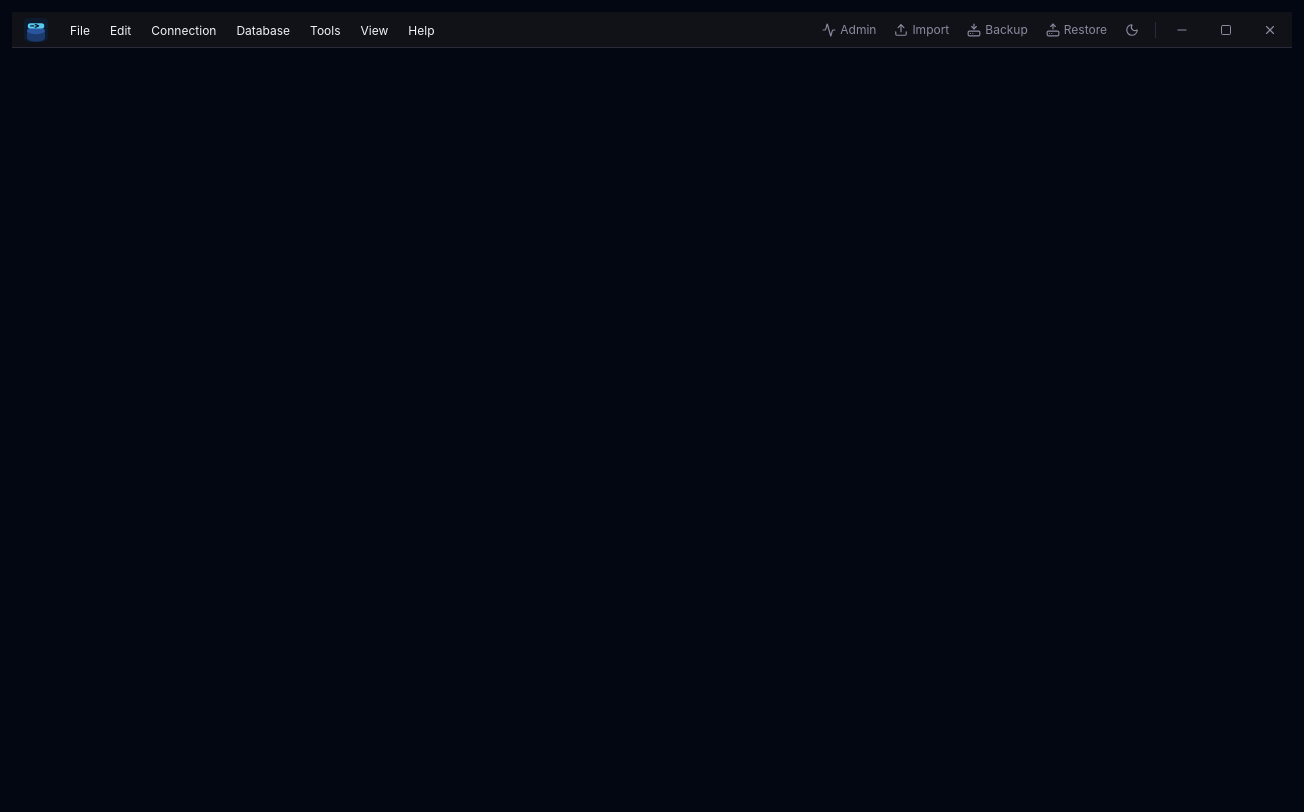
Test: TitleBar › closes system menu on click outside
Right-click the element that starts with "File" at (652, 30), box [12,12,1292,48]
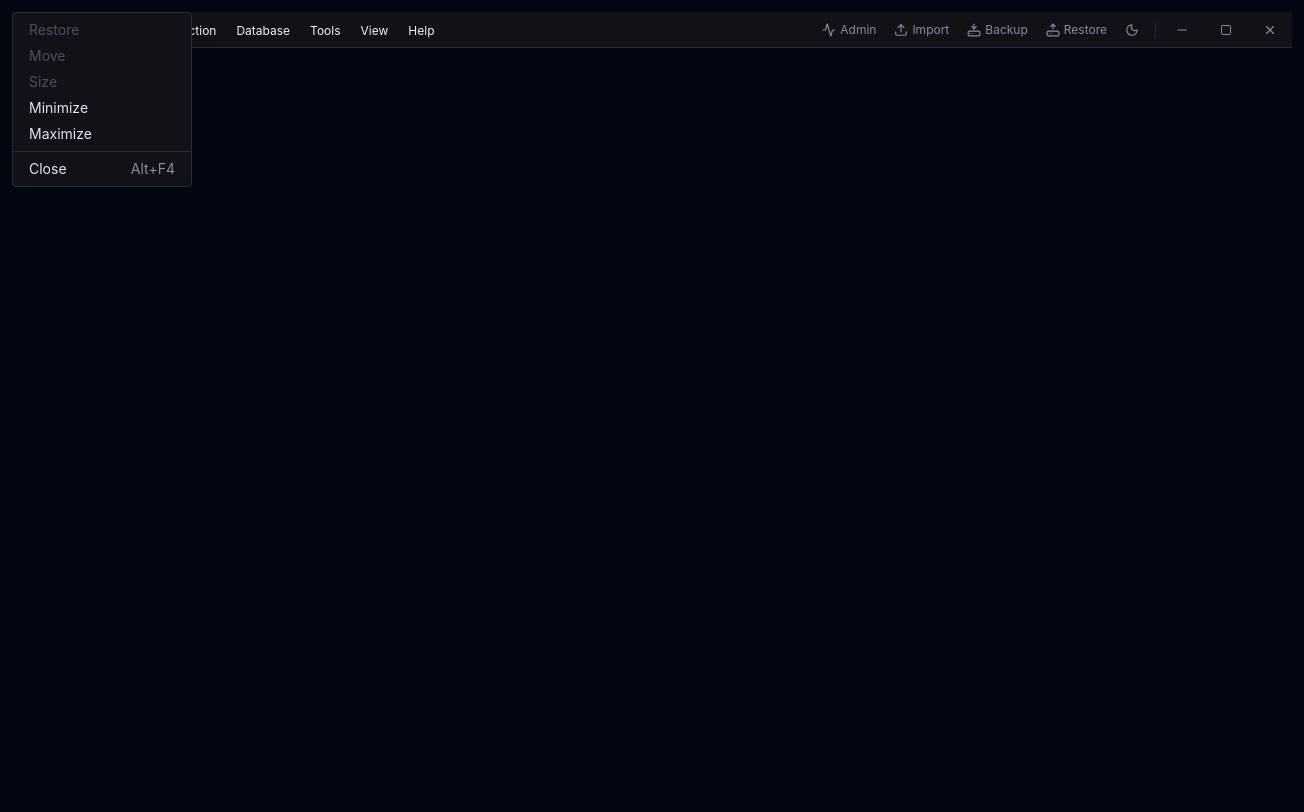
Now the text "Close" is shown, box [29,159,67,179]
Press the mouse on the element that starts with "File" at (652, 412), box [12,12,1292,811]
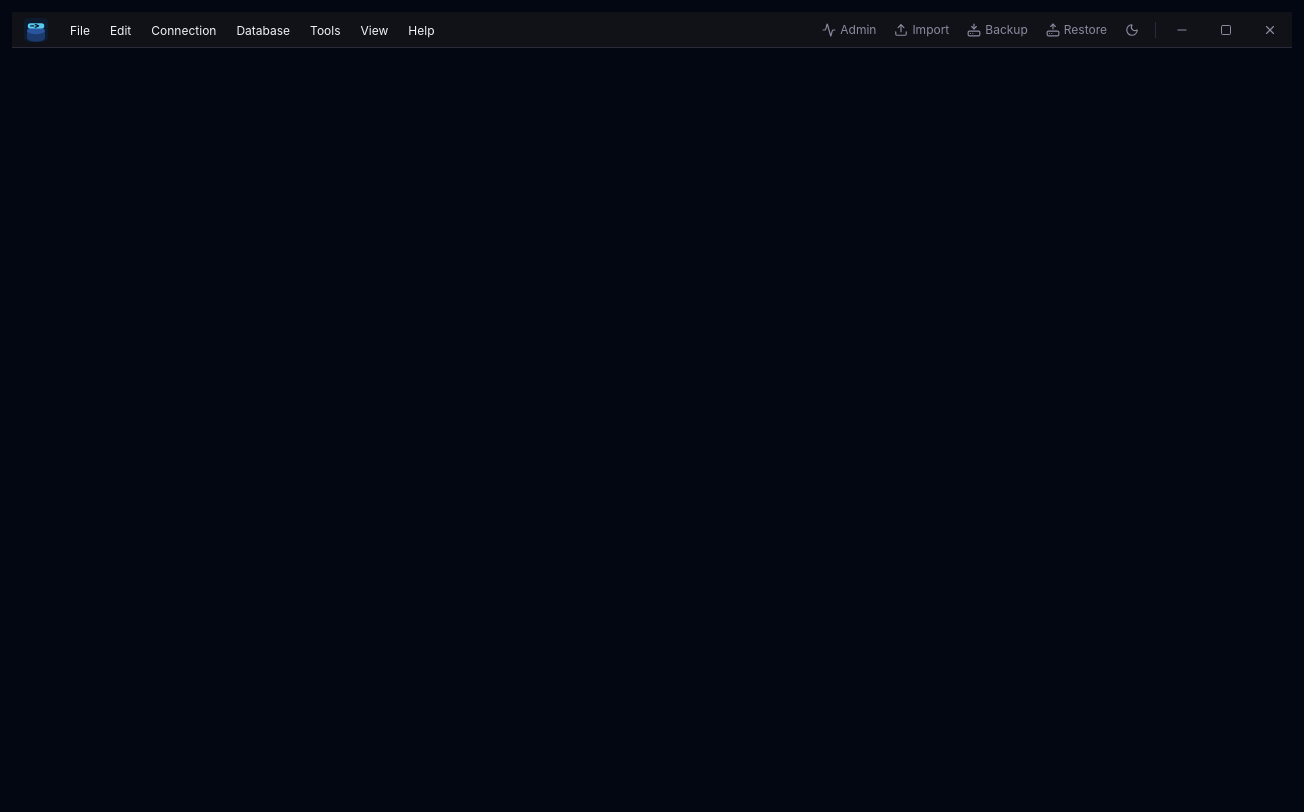
Now the button "Close" is gone
